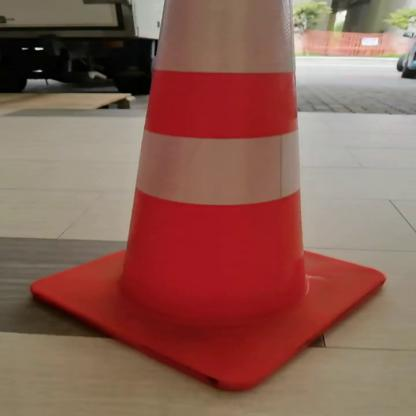cone: (26, 0, 404, 406)
